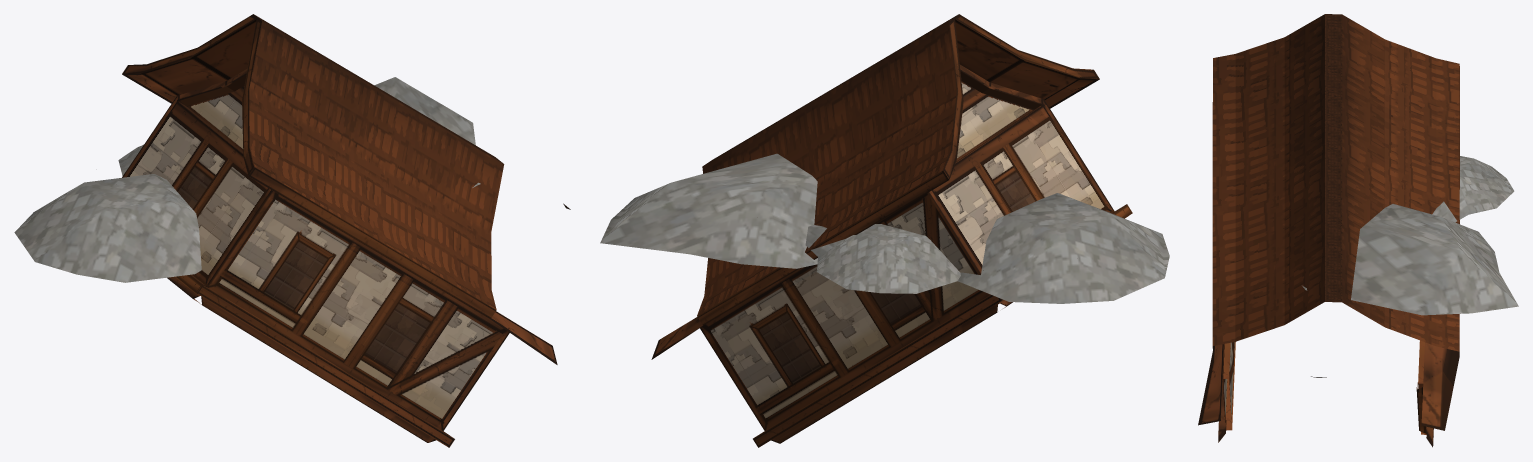
Rendered from HouseOvergrown2.fbx.
The picture shows the model from 3 angles, left to right: view 1: azimuth 30°, elevation 25°; view 2: azimuth 150°, elevation 25°; view 3: azimuth 270°, elevation 25°; orthographic projection. The views are drawn at different scales.
Visible parts, largest first — view 1: HouseOvergrown2, HouseOvergrown2_col; view 2: HouseOvergrown2, HouseOvergrown2_col; view 3: HouseOvergrown2.
Boxes of the visible parts, left/top/right/bottom form: HouseOvergrown2: left=14, top=14, right=570, bottom=447; HouseOvergrown2_col: left=122, top=106, right=509, bottom=430; HouseOvergrown2: left=600, top=14, right=1169, bottom=447; HouseOvergrown2_col: left=700, top=108, right=1113, bottom=430; HouseOvergrown2: left=1198, top=14, right=1518, bottom=447.
Bounding box in the file's own units: 2017 × 1551 × 1207.
